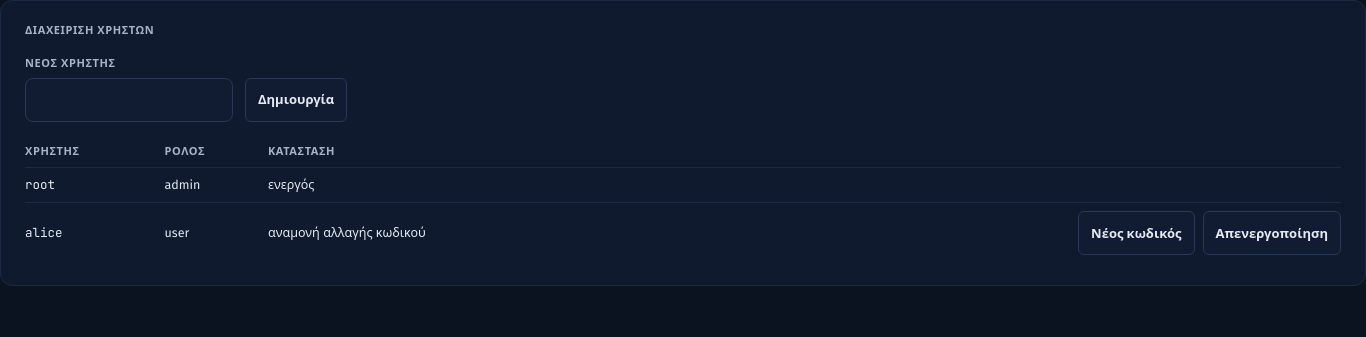
Scenario: UserAdminPanel › shows the backend error
The image size is (1366, 337).
Click the button with aria-label "Απενεργοποίηση alice" at (1272, 233), box [1202, 211, 1341, 255]
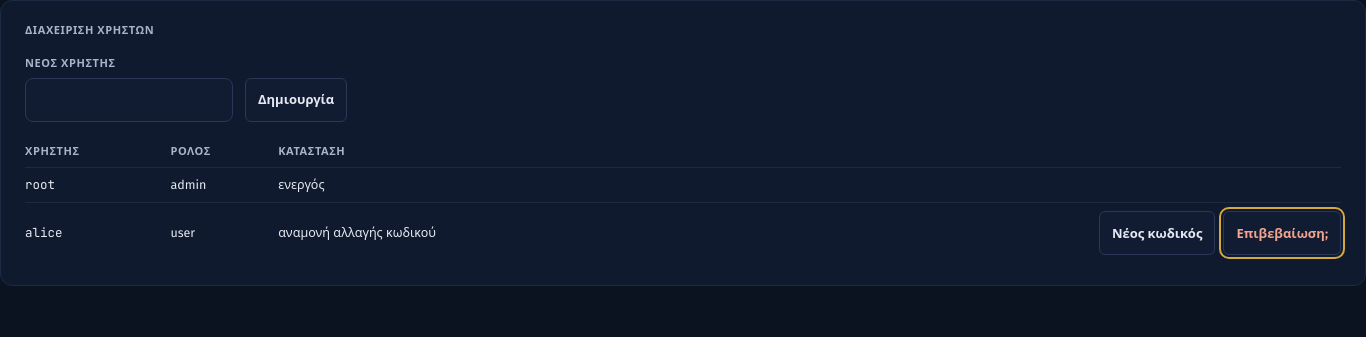
Click the button with aria-label "Επιβεβαίωση απενεργοποίησης alice" at (1282, 233), box [1223, 211, 1341, 255]
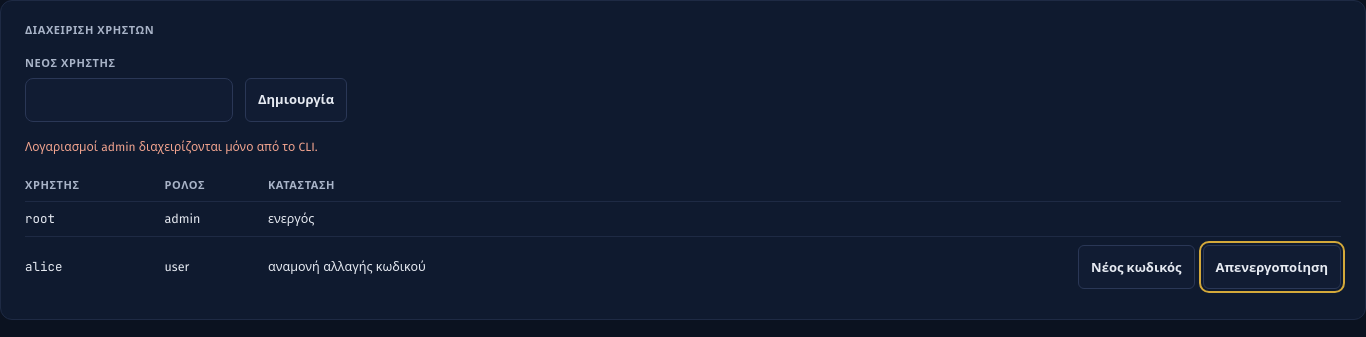
Now the message shows "μόνο από το CLI", box [25, 140, 318, 154]
